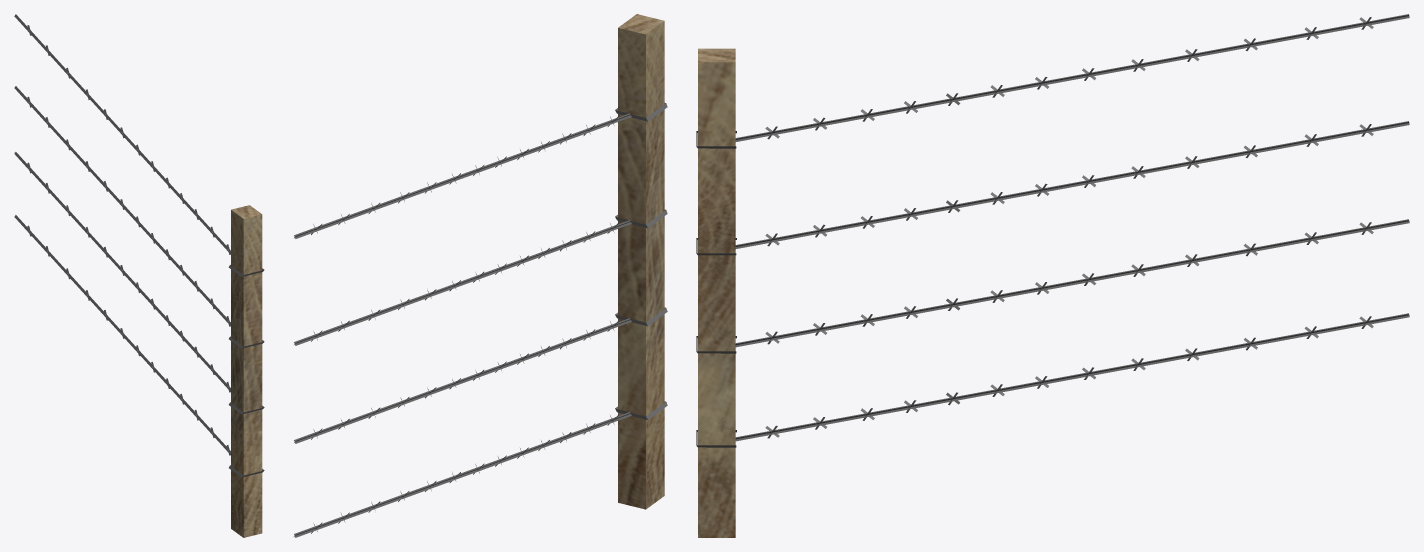
The model's file is barbed-fence-big-with-angle.glb.
3 views of the same model, side by side, from view 1: azimuth 30°, elevation 25°; view 2: azimuth 150°, elevation 25°; view 3: azimuth 270°, elevation 25° (orthographic). The views are drawn at different scales.
Parts seen in each view (by area): view 1: Cube.027; view 2: Cube.027; view 3: Cube.027.
Boxes of the visible parts, x1,y1,x2,y2 form: Cube.027: (14, 14, 264, 537); Cube.027: (294, 14, 667, 537); Cube.027: (696, 14, 1409, 537).
Bounding box in the file's own units: 0.0941 × 1.39 × 1.73.
3 materials, 1 textured.
